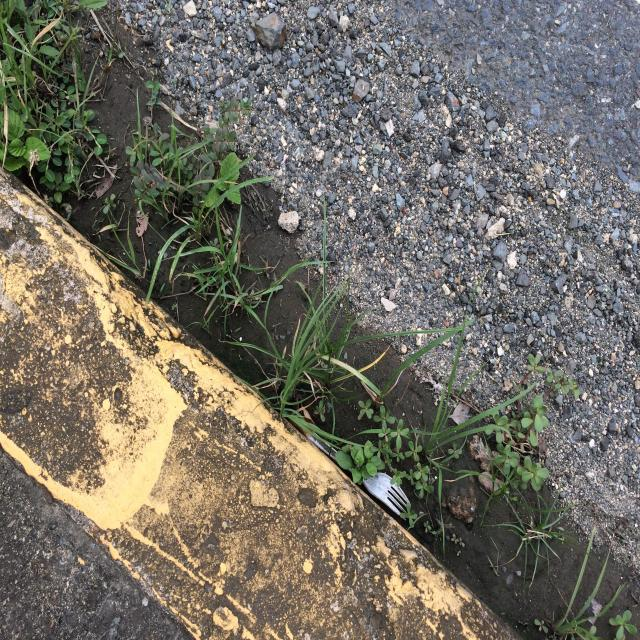litter: (292, 402, 414, 519)
